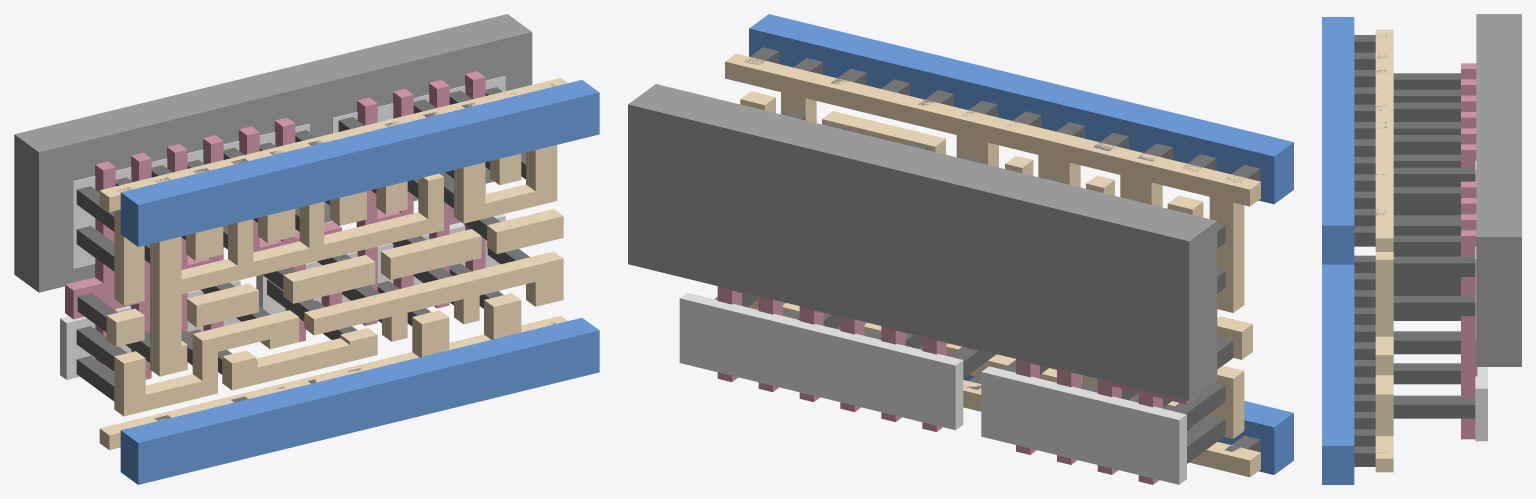
File: sky130_fd_sc_hd__o2111ai_2.gds.gltf
The picture shows the model from 3 angles, left to right: view 1: azimuth 30°, elevation 25°; view 2: azimuth 150°, elevation 25°; view 3: azimuth 270°, elevation 25°; orthographic projection. The views are drawn at different scales.
Visible parts, largest first — view 1: sky130_fd_sc_hd__o2111ai_2_li1, sky130_fd_sc_hd__o2111ai_2_met1, sky130_fd_sc_hd__o2111ai_2_nwell, sky130_fd_sc_hd__o2111ai_2_licon, sky130_fd_sc_hd__o2111ai_2_poly, sky130_fd_sc_hd__o2111ai_2_diff, sky130_fd_sc_hd__o2111ai_2_mcon; view 2: sky130_fd_sc_hd__o2111ai_2_nwell, sky130_fd_sc_hd__o2111ai_2_diff, sky130_fd_sc_hd__o2111ai_2_li1, sky130_fd_sc_hd__o2111ai_2_met1, sky130_fd_sc_hd__o2111ai_2_poly, sky130_fd_sc_hd__o2111ai_2_licon, sky130_fd_sc_hd__o2111ai_2_mcon; view 3: sky130_fd_sc_hd__o2111ai_2_licon, sky130_fd_sc_hd__o2111ai_2_nwell, sky130_fd_sc_hd__o2111ai_2_met1, sky130_fd_sc_hd__o2111ai_2_mcon, sky130_fd_sc_hd__o2111ai_2_li1, sky130_fd_sc_hd__o2111ai_2_poly, sky130_fd_sc_hd__o2111ai_2_diff.
Part boxes in pixels (box(x1,y1,x2,y2)): sky130_fd_sc_hd__o2111ai_2_li1: box(99, 78, 567, 450); sky130_fd_sc_hd__o2111ai_2_met1: box(120, 80, 599, 484); sky130_fd_sc_hd__o2111ai_2_nwell: box(14, 14, 532, 292); sky130_fd_sc_hd__o2111ai_2_licon: box(76, 87, 529, 401); sky130_fd_sc_hd__o2111ai_2_poly: box(65, 71, 485, 379); sky130_fd_sc_hd__o2111ai_2_diff: box(60, 76, 505, 379); sky130_fd_sc_hd__o2111ai_2_mcon: box(116, 84, 555, 420); sky130_fd_sc_hd__o2111ai_2_nwell: box(628, 84, 1217, 400); sky130_fd_sc_hd__o2111ai_2_diff: box(679, 292, 1186, 484); sky130_fd_sc_hd__o2111ai_2_li1: box(725, 53, 1260, 477); sky130_fd_sc_hd__o2111ai_2_met1: box(749, 14, 1293, 474); sky130_fd_sc_hd__o2111ai_2_poly: box(717, 286, 1196, 484); sky130_fd_sc_hd__o2111ai_2_licon: box(714, 113, 1233, 463); sky130_fd_sc_hd__o2111ai_2_mcon: box(743, 47, 1260, 451); sky130_fd_sc_hd__o2111ai_2_licon: box(1393, 73, 1475, 418); sky130_fd_sc_hd__o2111ai_2_nwell: box(1476, 14, 1521, 366); sky130_fd_sc_hd__o2111ai_2_met1: box(1322, 17, 1354, 484); sky130_fd_sc_hd__o2111ai_2_mcon: box(1354, 35, 1386, 466); sky130_fd_sc_hd__o2111ai_2_li1: box(1375, 29, 1393, 472); sky130_fd_sc_hd__o2111ai_2_poly: box(1461, 63, 1477, 439); sky130_fd_sc_hd__o2111ai_2_diff: box(1475, 128, 1487, 441).
Size of the model in its own units: 5.9 by 3.2 by 2.24.
